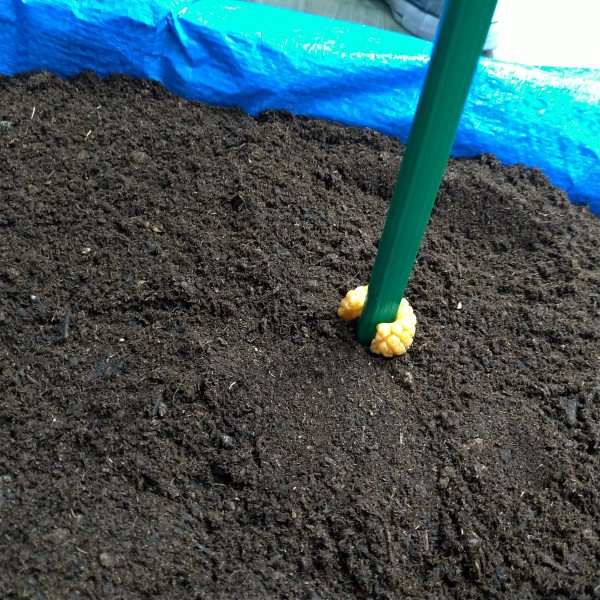eggs: (329, 277, 420, 359)
